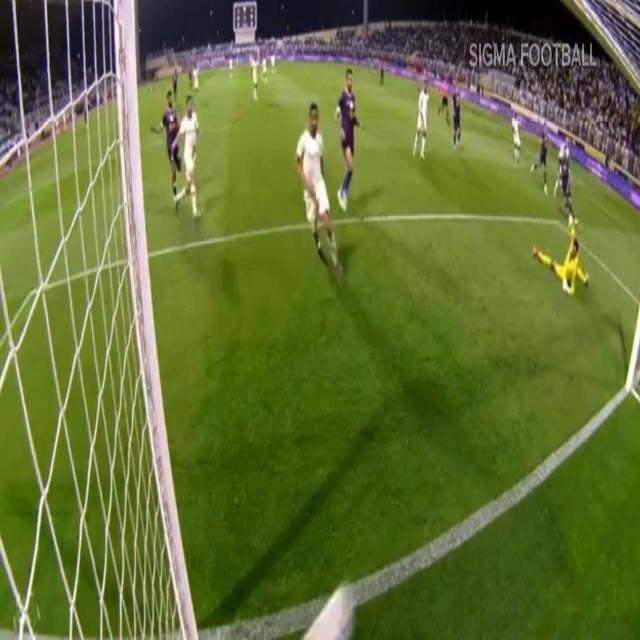goalkeeper: (534, 214, 599, 343), (588, 297, 589, 299)
player: (291, 106, 334, 280), (334, 67, 365, 224), (175, 99, 209, 230), (406, 77, 436, 179), (158, 89, 183, 163), (449, 81, 472, 161), (556, 141, 581, 202), (506, 110, 529, 172), (249, 51, 267, 107), (536, 125, 551, 185), (376, 66, 390, 109), (223, 53, 242, 83), (186, 58, 204, 89), (268, 51, 280, 75), (171, 70, 182, 90)
referee: (437, 68, 450, 107)
